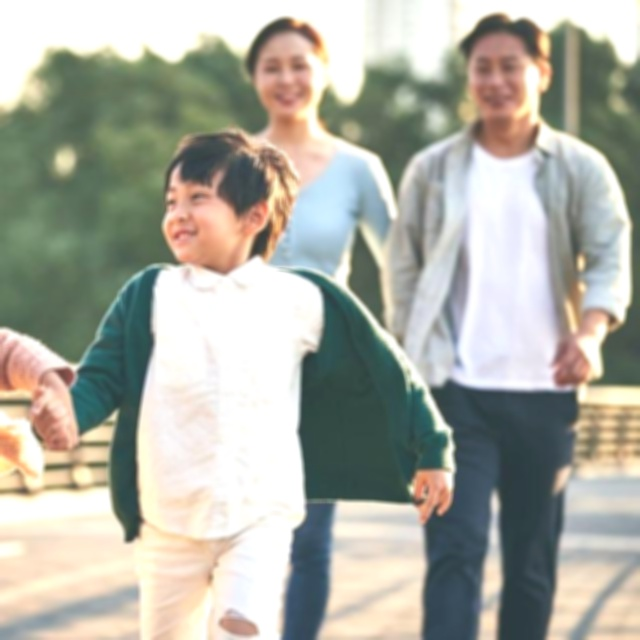Sin_Casco_Mascarrilla: (157, 128, 295, 263), (462, 11, 552, 122), (242, 17, 328, 119)
Sin_Chaleco: (401, 130, 599, 399)
